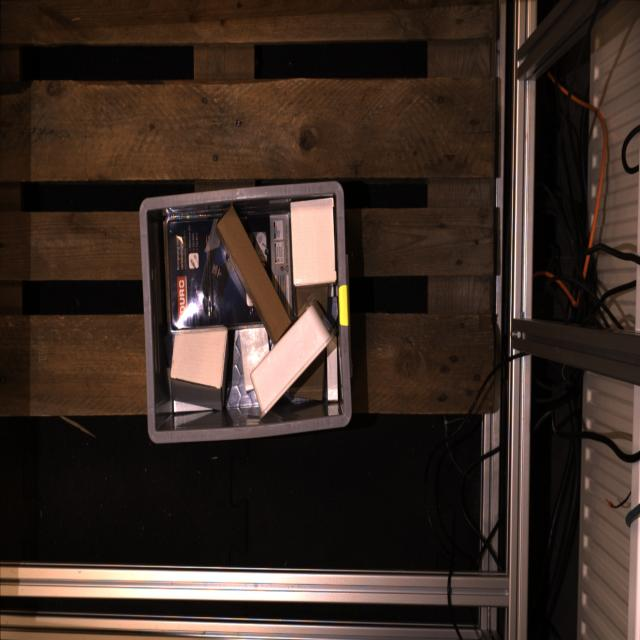CardboardBox: (215, 205, 292, 344), (289, 285, 329, 404), (171, 328, 229, 408), (289, 198, 337, 285), (240, 329, 270, 391), (327, 340, 338, 403), (174, 401, 211, 413)
ItemPackaging: (168, 213, 292, 331)
PlasticContainer: (250, 293, 337, 419)
